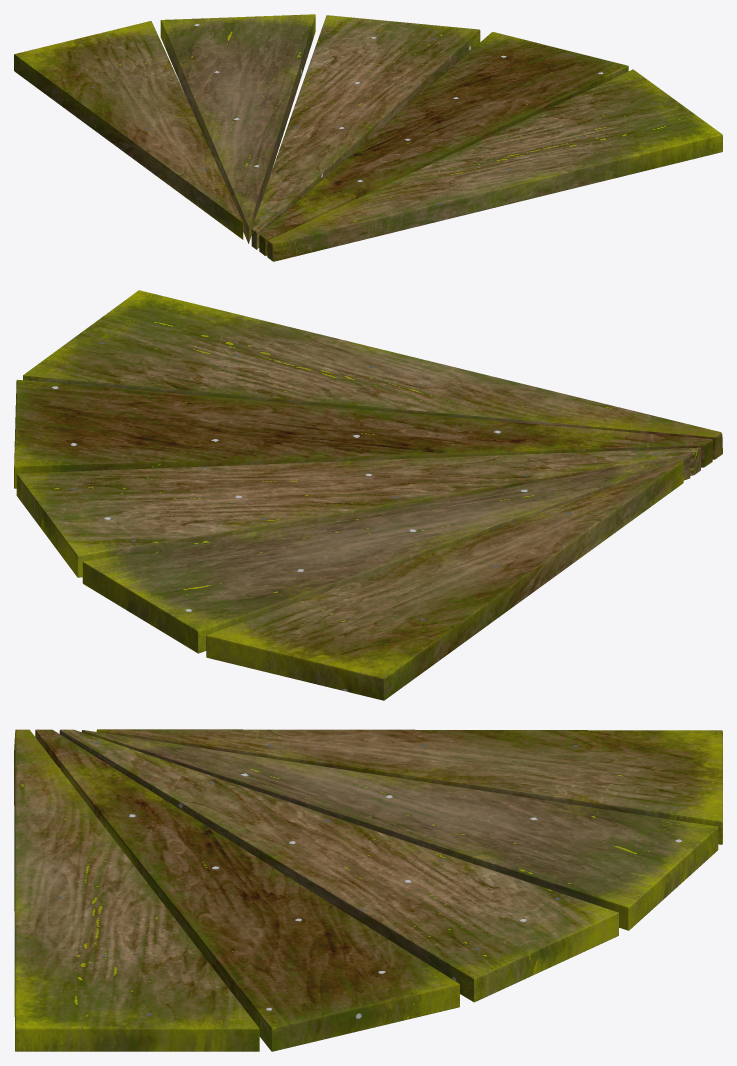
The model's file is PNW Pathway_Curve_90_L_No Grip.glb.
The picture shows the model from 3 angles, top to bottom: view 1: azimuth 30°, elevation 25°; view 2: azimuth 150°, elevation 25°; view 3: azimuth 270°, elevation 25°; orthographic projection. The views are drawn at different scales.
Parts seen in each view (by area): view 1: Curve_90_L_No Grip; view 2: Curve_90_L_No Grip; view 3: Curve_90_L_No Grip.
Boxes of the visible parts, x1=… form: Curve_90_L_No Grip: x1=14, y1=14, x2=722, y2=261; Curve_90_L_No Grip: x1=14, y1=290, x2=722, y2=700; Curve_90_L_No Grip: x1=14, y1=729, x2=722, y2=1051.
Bounding box in the file's own units: 1.52 × 0.0577 × 1.52.
1 material, 1 textured.
